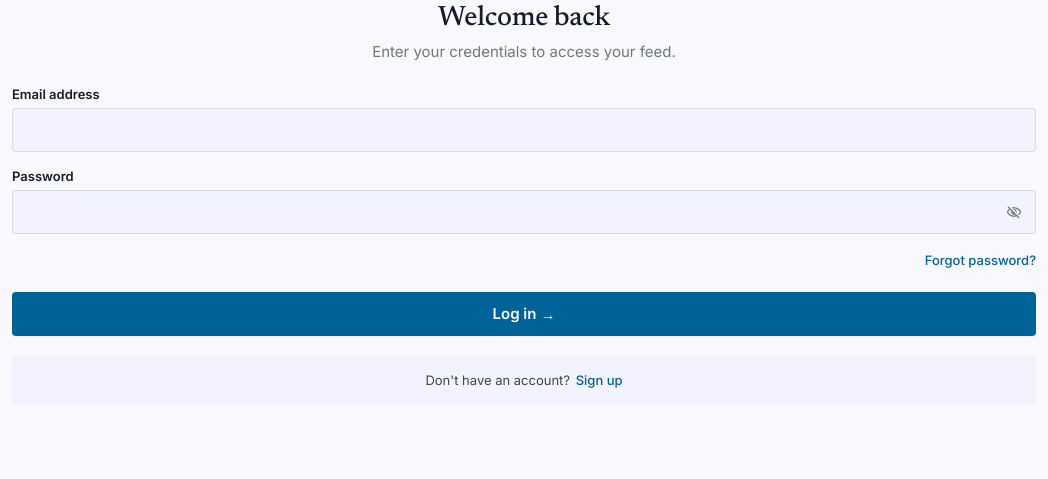
Test: LoginForm › shows a dismissible banner for {"name":"ApiError","status":400,"code":"email_password_mismatch","detail":"The email address and/or password you specified are no
This screenshot has width=1048, height=479.
Type "ada@example.test" into the field labelled "Email address".
click(524, 130); type("ada@example.test")  # box [12,108,1036,152]
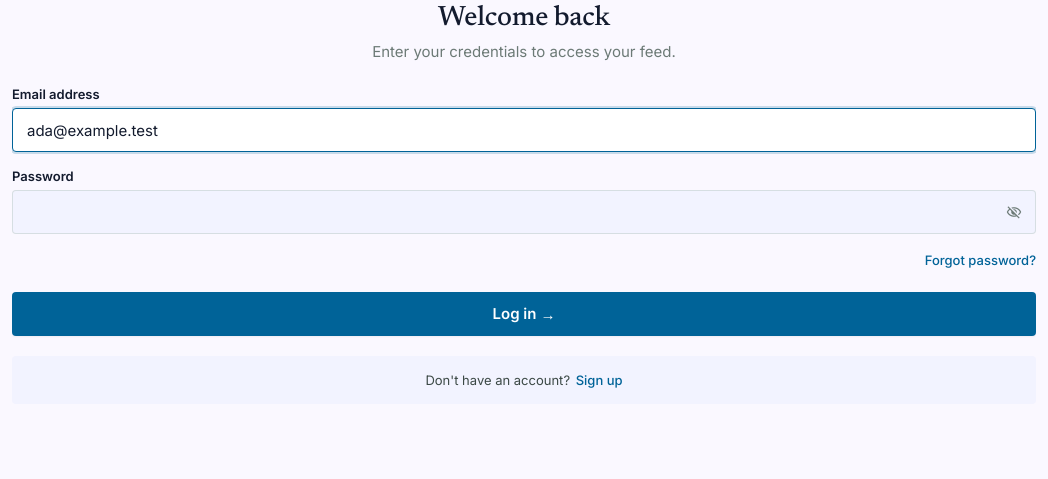
Type "correct-horse" into the password field labelled "Password".
click(524, 212); type("correct-horse")  # box [12,190,1036,234]
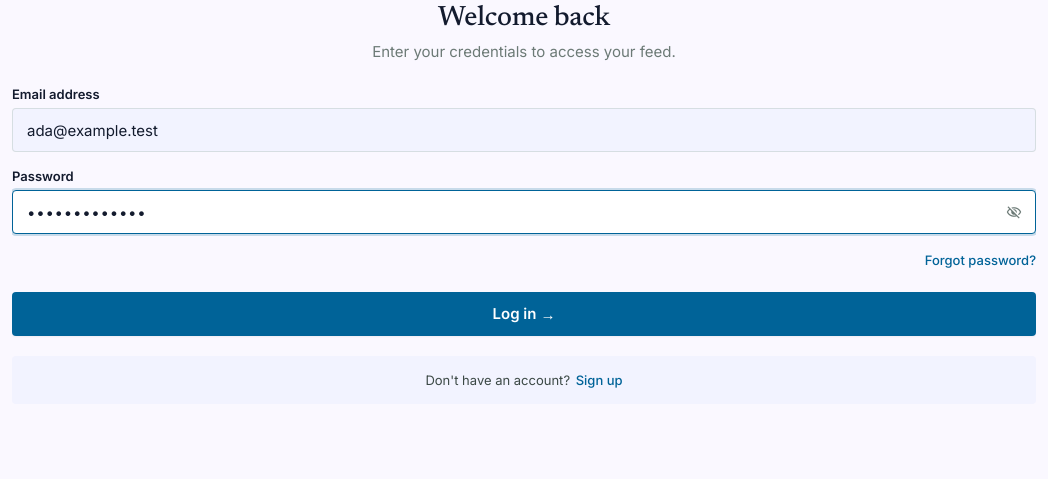
Click the button "Log in →".
click(524, 314)  # box [12,292,1036,336]
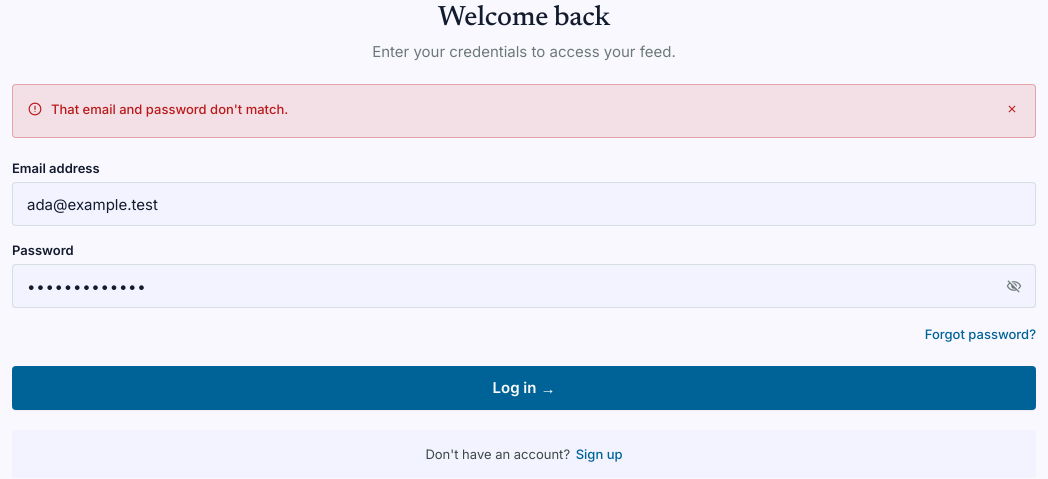
Expected: the button "Log in →" is enabled, [12,366,1036,410]
Expected: the message reads "That email and password don't match.", [51,101,288,117]
Click the button named "Dismiss".
click(1012, 111)  # box [1003,99,1021,123]
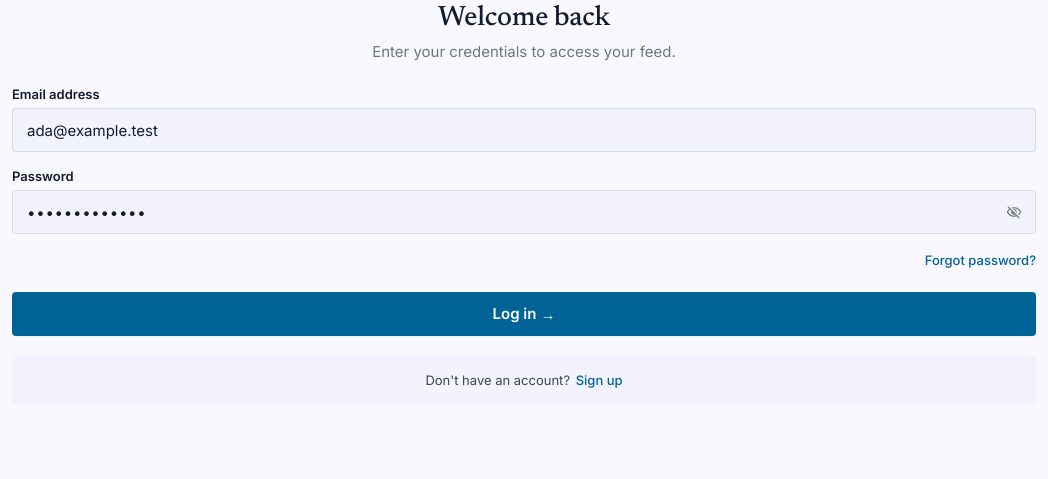
Expected: the message "That email and password don't match." is gone
